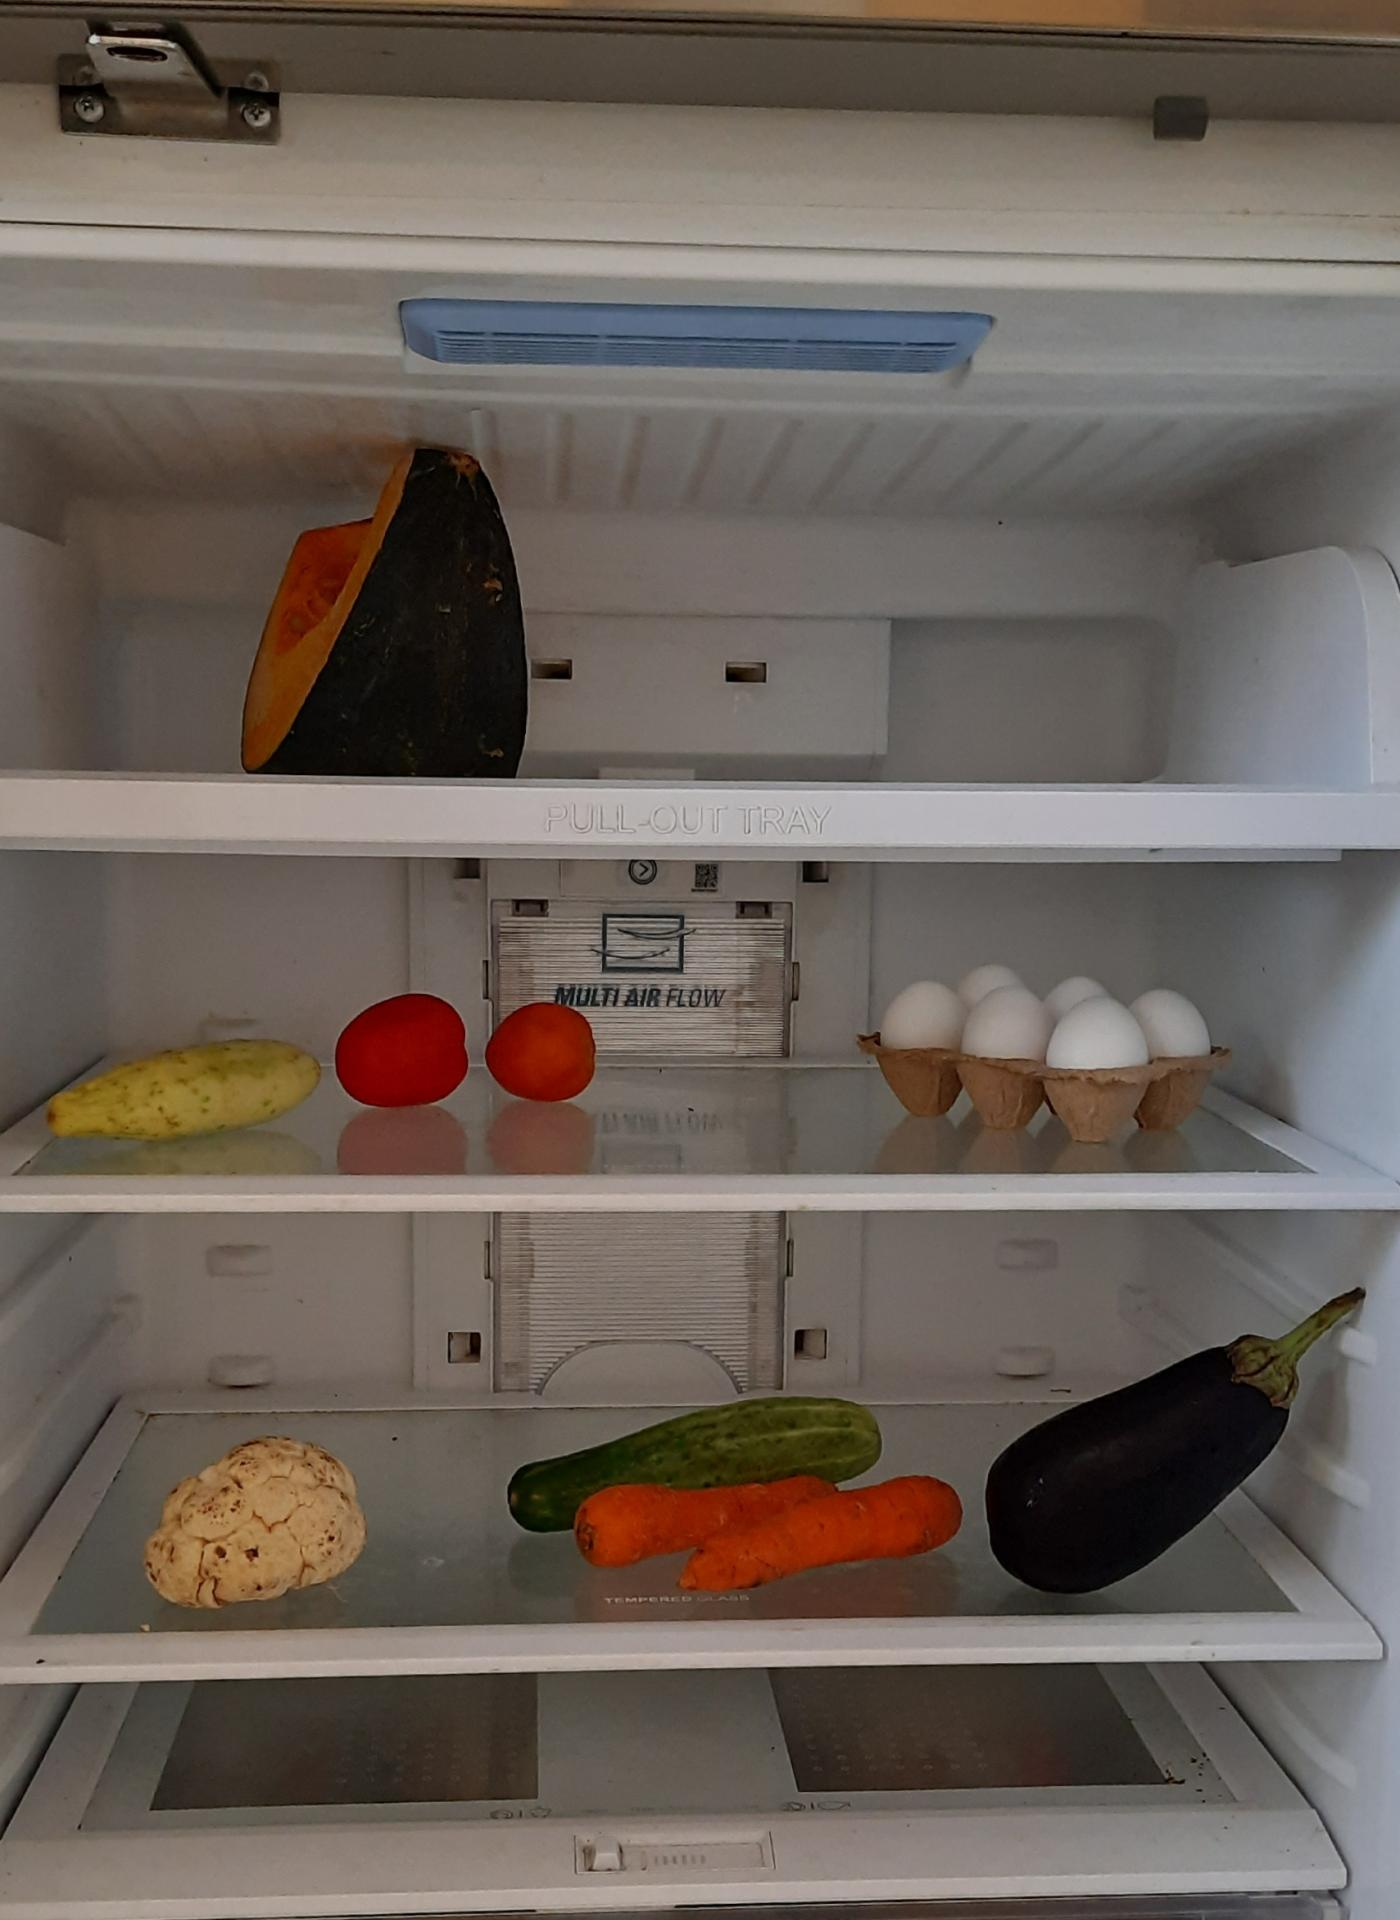brinjal: (972, 1295, 1358, 1595)
carrots: (574, 1474, 951, 1613)
cauliflower: (148, 1434, 367, 1600)
cucumber: (508, 1394, 887, 1529), (39, 1038, 324, 1145)
egg: (865, 930, 1224, 1142)
pumpkin: (218, 417, 561, 809)
tomato: (334, 982, 464, 1108), (494, 993, 599, 1108)
